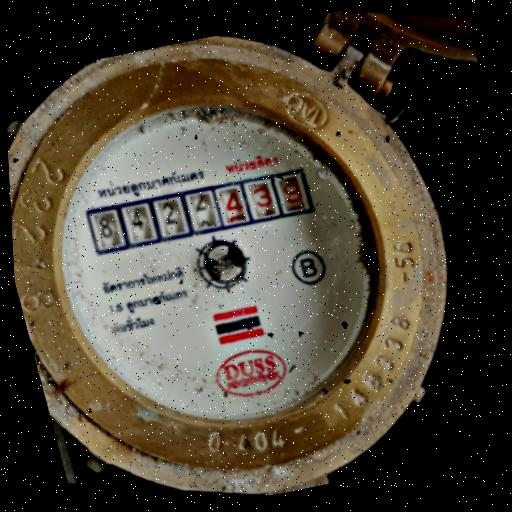2: (158, 200, 185, 235), (190, 193, 216, 229)
3: (248, 181, 276, 218)
4: (125, 206, 154, 242), (219, 188, 246, 225)
8: (94, 213, 121, 247)
9: (277, 176, 305, 210)
border_water_meter_number: (82, 163, 318, 259)
